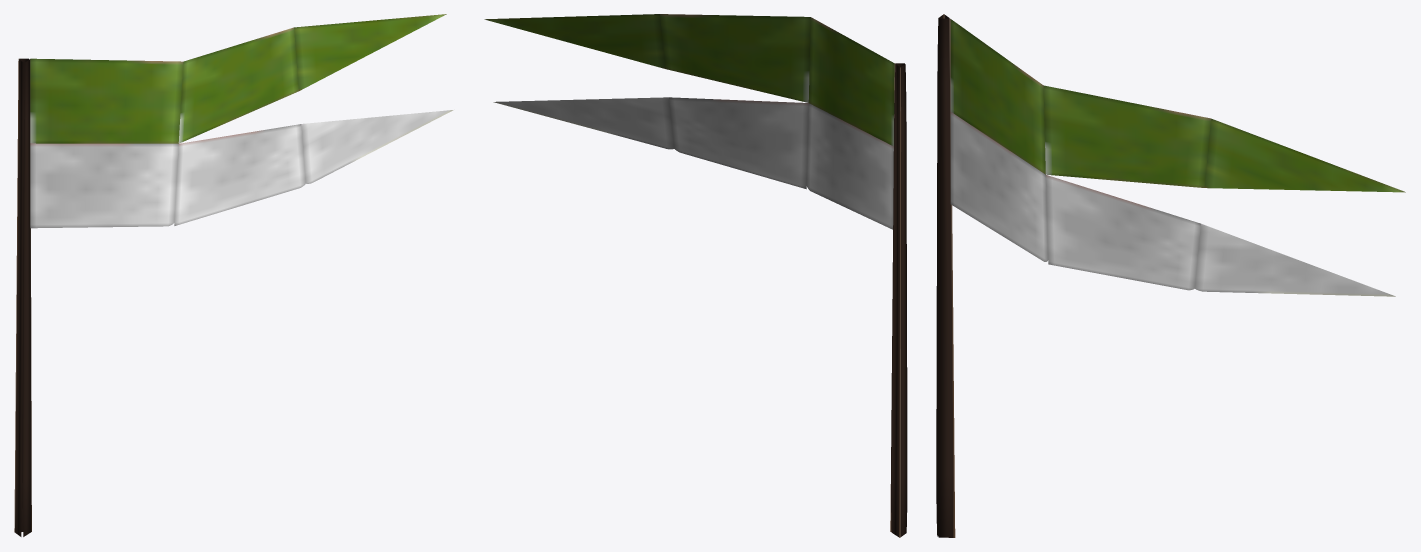
3 renders of one model, left to right at view 1: azimuth 30°, elevation 25°; view 2: azimuth 150°, elevation 25°; view 3: azimuth 330°, elevation 25°, orthographic. The views are drawn at different scales.
Parts seen in each view (by area): view 1: T1L3M006_22; view 2: T1L3M006_22; view 3: T1L3M006_22.
Boxes of the visible parts, x1,y1,x2,y2 form: T1L3M006_22: [14, 14, 453, 536]; T1L3M006_22: [484, 14, 907, 537]; T1L3M006_22: [936, 14, 1405, 537].
Size of the model in its own units: 1.73 by 1.83 by 0.2752.
